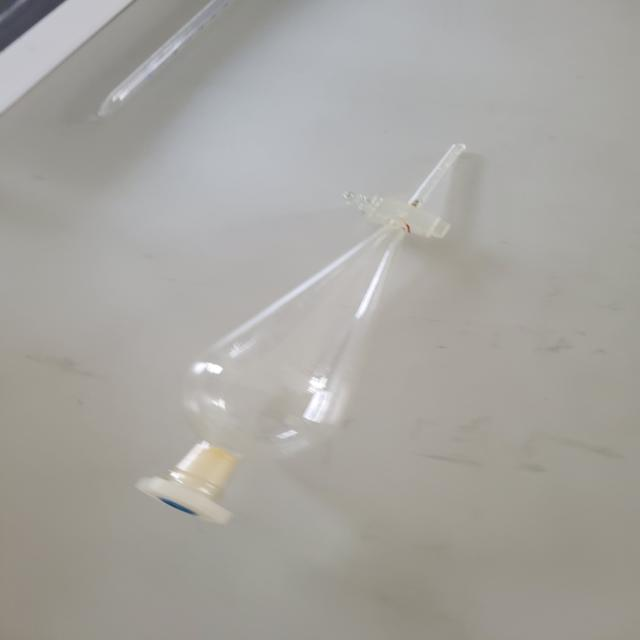Separating_Funnel: (114, 112, 500, 542)
